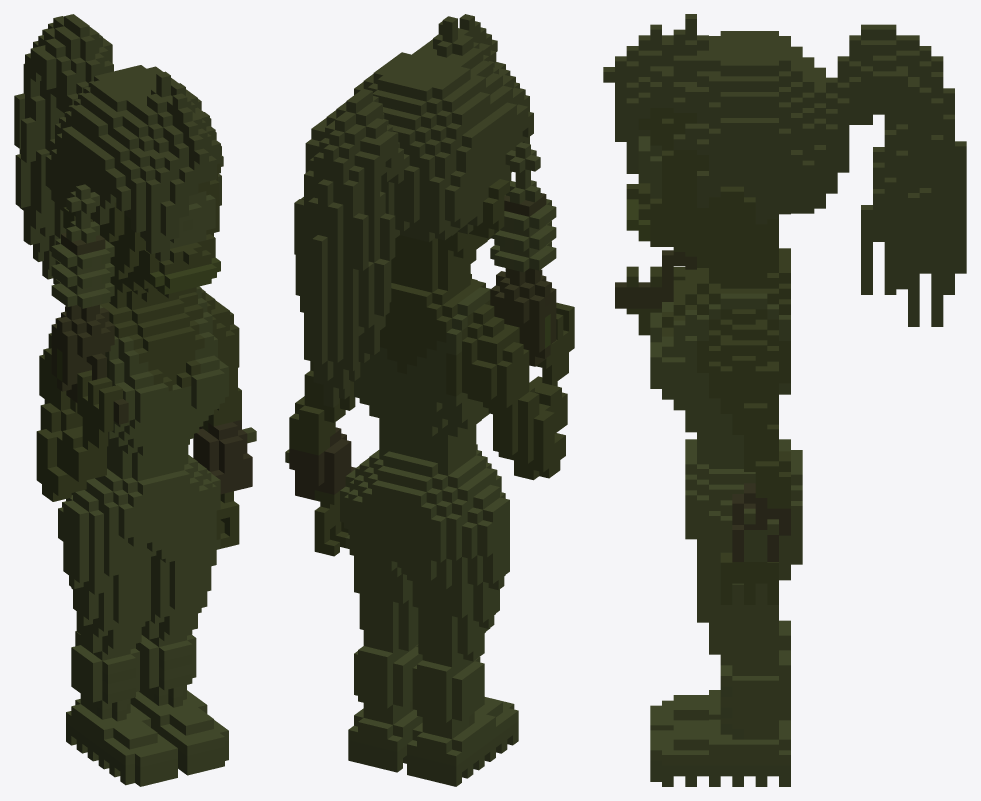
The model's file is leela.fbx.
3 renders of one model, left to right at view 1: azimuth 30°, elevation 25°; view 2: azimuth 150°, elevation 25°; view 3: azimuth 270°, elevation 25°, orthographic. The views are drawn at different scales.
Visible parts, largest first — view 1: Untitled; view 2: Untitled; view 3: Untitled.
Part boxes in pixels (bbox=[...]): Untitled: bbox=[14, 14, 256, 786]; Untitled: bbox=[285, 14, 574, 786]; Untitled: bbox=[603, 14, 966, 786].
Size of the model in its own units: 240 by 700 by 310.
Materials: 1 (1 with a texture image).
